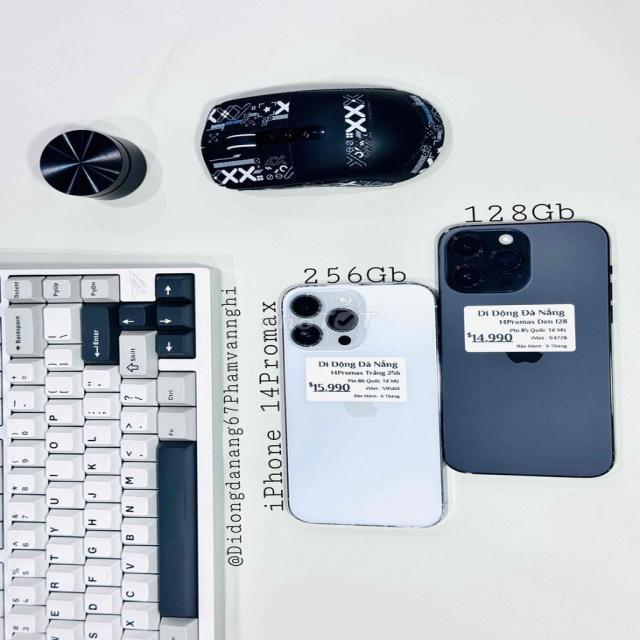gen_14: (267, 280, 450, 540)
